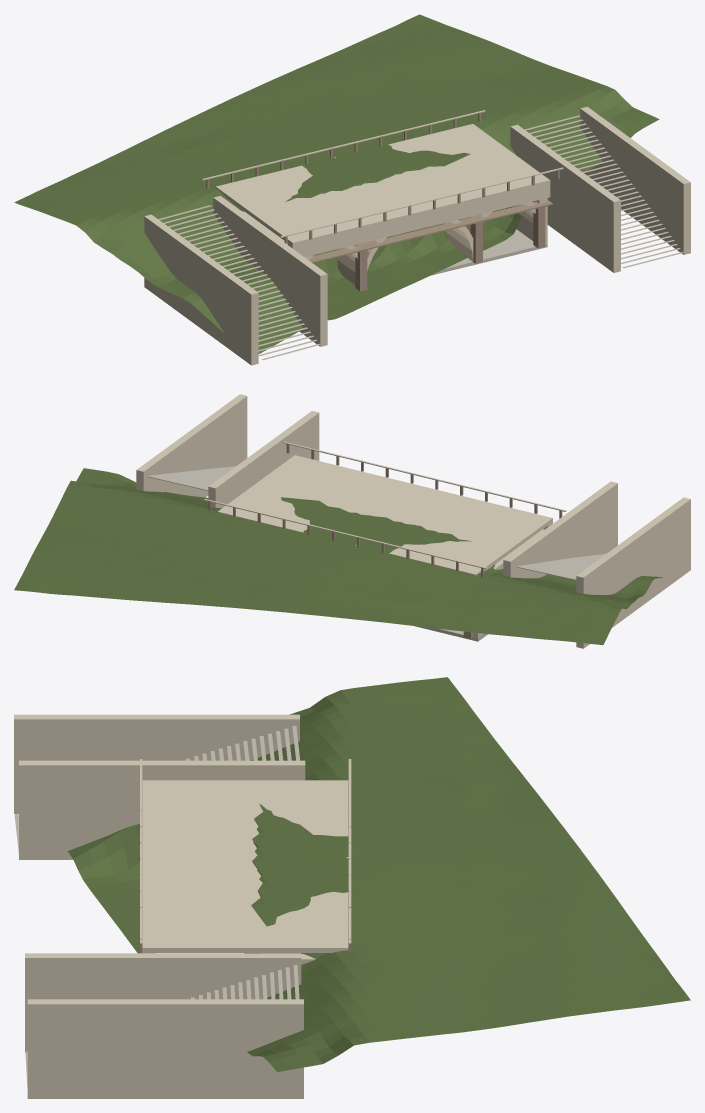
Rendered from cp_bethesda_terrace.glb.
The picture shows the model from 3 angles, top to bottom: view 1: azimuth 30°, elevation 25°; view 2: azimuth 150°, elevation 25°; view 3: azimuth 270°, elevation 25°; orthographic projection. The views are drawn at different scales.
Parts seen in each view (by area): view 1: BethesdaTerrace; view 2: BethesdaTerrace; view 3: BethesdaTerrace.
Boxes of the visible parts, left/top/right/bottom form: BethesdaTerrace: left=14, top=14, right=690, bottom=365; BethesdaTerrace: left=14, top=394, right=690, bottom=648; BethesdaTerrace: left=14, top=677, right=690, bottom=1098.
Size of the model in its own units: 55.83 by 7.2 by 42.13.
